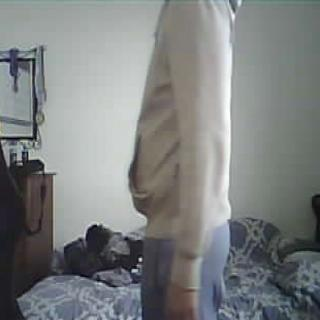Blue Sweatpants: (137, 229, 230, 320)
Yellow Hoodie: (127, 1, 231, 230)
